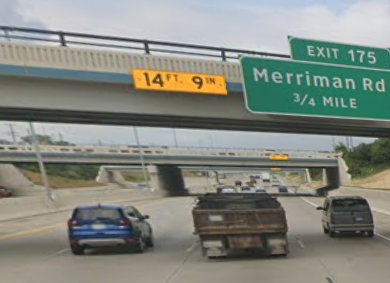1: (140, 69, 151, 89)
4: (151, 69, 166, 90)
9: (187, 73, 205, 92)
overheadsign: (129, 66, 228, 95)
